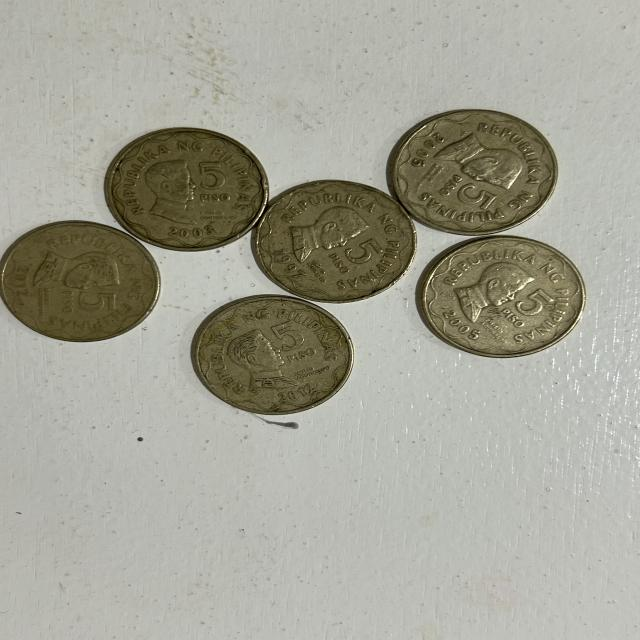5_Old_Front: (258, 316, 325, 368), (478, 287, 555, 328), (430, 168, 496, 213), (328, 240, 393, 283), (58, 283, 128, 321), (190, 159, 239, 208)
